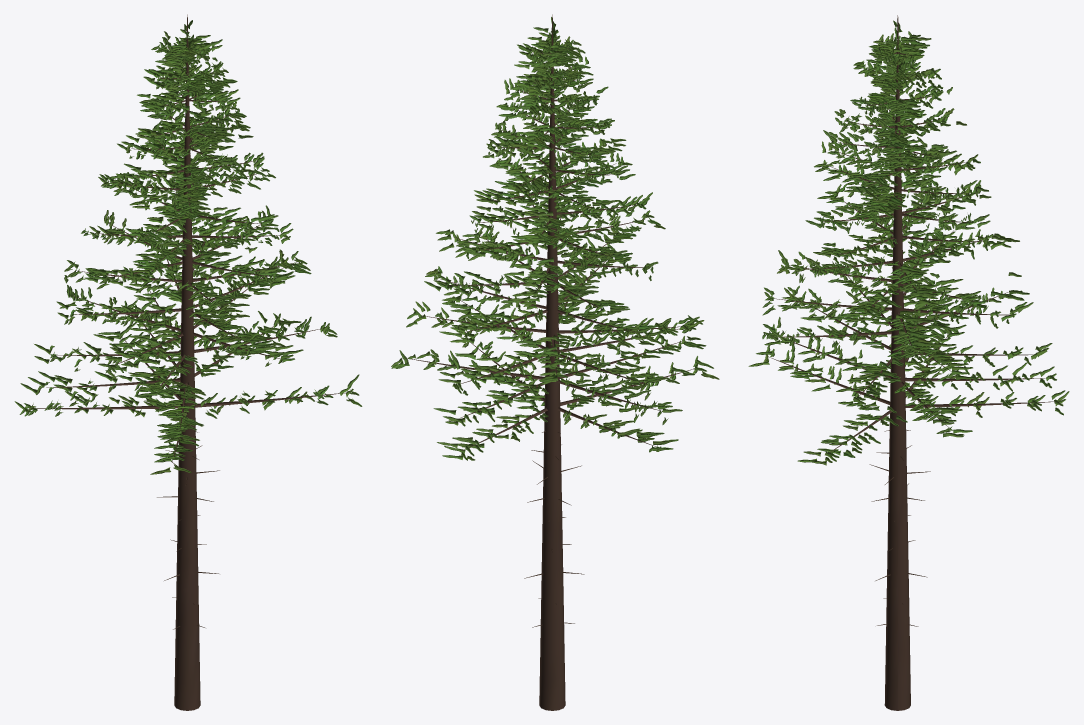
The model's file is SM_Tree_larch_2.glb.
3 views of the same model, side by side, from view 1: azimuth 30°, elevation 25°; view 2: azimuth 150°, elevation 25°; view 3: azimuth 270°, elevation 25° (orthographic).
Parts seen in each view (by area): view 1: SM_Tree_larch_2; view 2: SM_Tree_larch_2; view 3: SM_Tree_larch_2.
Part boxes in pixels (left/top/right/bottom): SM_Tree_larch_2: left=14, top=14, right=362, bottom=710; SM_Tree_larch_2: left=391, top=14, right=719, bottom=710; SM_Tree_larch_2: left=748, top=15, right=1069, bottom=710.
Size of the model in its own units: 7.98 by 18.35 by 7.73.
